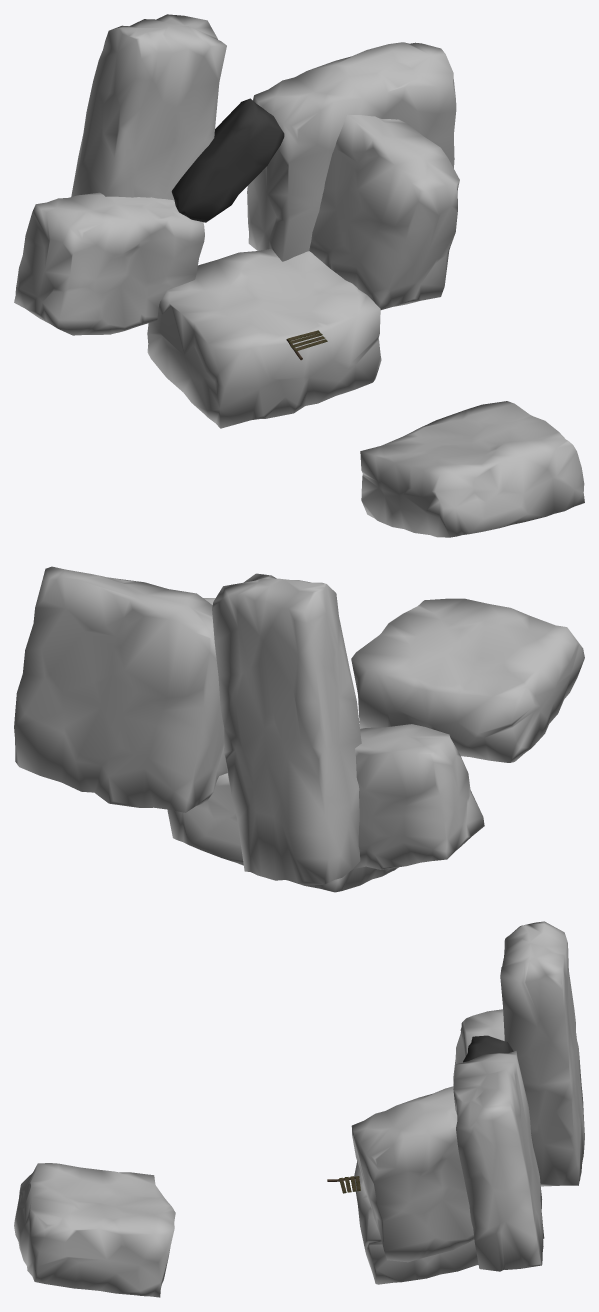
The model's file is Set For Trailer.fbx.
The picture shows the model from 3 angles, top to bottom: view 1: azimuth 30°, elevation 25°; view 2: azimuth 150°, elevation 25°; view 3: azimuth 270°, elevation 25°; orthographic projection. The views are drawn at different scales.
Visible parts, largest first — view 1: MKCave_BigRockWall412, MKCave_BigRockWall411, MKCave_BigRockWall250, MKCave_BigRockWall202, MKCave_BigRockWall203, MKCave_BigRockWall201, MKCave_SRockWall7; view 2: MKCave_BigRockWall202, MKCave_BigRockWall203, MKCave_BigRockWall411, MKCave_BigRockWall201, MKCave_BigRockWall412; view 3: MKCave_BigRockWall411, MKCave_BigRockWall203, MKCave_BigRockWall202, MKCave_BigRockWall250, MKCave_BigRockWall412, MKCave_BigRockWall201, MKCave_SRockWall7.
Boxes of the visible parts, left/top/right/bottom form: MKCave_BigRockWall412: left=147, top=248, right=381, bottom=428; MKCave_BigRockWall411: left=360, top=401, right=584, bottom=537; MKCave_BigRockWall250: left=309, top=114, right=459, bottom=309; MKCave_BigRockWall202: left=247, top=42, right=456, bottom=261; MKCave_BigRockWall203: left=71, top=14, right=226, bottom=200; MKCave_BigRockWall201: left=14, top=192, right=204, bottom=335; MKCave_SRockWall7: left=171, top=98, right=284, bottom=222; MKCave_BigRockWall202: left=14, top=566, right=227, bottom=812; MKCave_BigRockWall203: left=212, top=573, right=361, bottom=885; MKCave_BigRockWall411: left=351, top=598, right=584, bottom=762; MKCave_BigRockWall201: left=354, top=724, right=484, bottom=869; MKCave_BigRockWall412: left=167, top=773, right=398, bottom=892; MKCave_BigRockWall411: left=14, top=1163, right=175, bottom=1297; MKCave_BigRockWall203: left=500, top=921, right=584, bottom=1186; MKCave_BigRockWall202: left=453, top=1051, right=544, bottom=1271; MKCave_BigRockWall250: left=351, top=1086, right=474, bottom=1262; MKCave_BigRockWall412: left=354, top=1161, right=478, bottom=1284; MKCave_BigRockWall201: left=453, top=1009, right=504, bottom=1085; MKCave_SRockWall7: left=463, top=1035, right=513, bottom=1062.
Size of the model in its own units: 2414 by 3189 by 1861.
